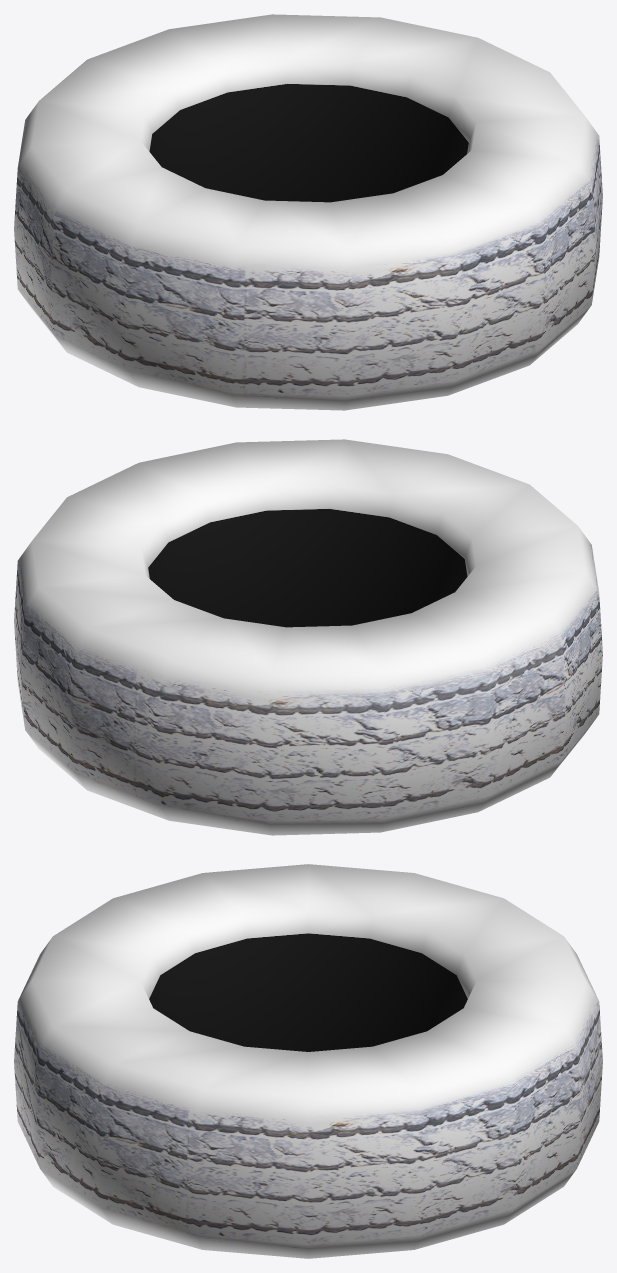
File: WhiteTire.dae
The picture shows the model from 3 angles, top to bottom: view 1: azimuth 30°, elevation 25°; view 2: azimuth 150°, elevation 25°; view 3: azimuth 270°, elevation 25°; orthographic projection.
Visible parts, largest first — view 1: Torus.002; view 2: Torus.002; view 3: Torus.002.
Boxes of the visible parts, x1,y1,x2,y2 form: Torus.002: (14, 14, 602, 410); Torus.002: (14, 439, 602, 835); Torus.002: (14, 864, 602, 1258).
Size of the model in its own units: 1.15 by 1.15 by 0.3467.
1 material, 1 textured.
